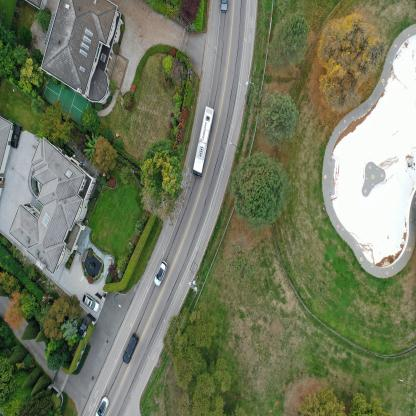Coniferous Tree: (320, 19, 384, 107), (166, 345, 209, 385), (140, 186, 185, 218), (294, 390, 348, 416), (351, 391, 399, 416), (178, 391, 225, 416), (224, 245, 258, 279), (196, 306, 220, 350), (212, 356, 232, 392)
Deciduous Tree: (231, 157, 294, 220), (273, 16, 314, 70), (260, 99, 304, 144), (164, 159, 182, 192)
